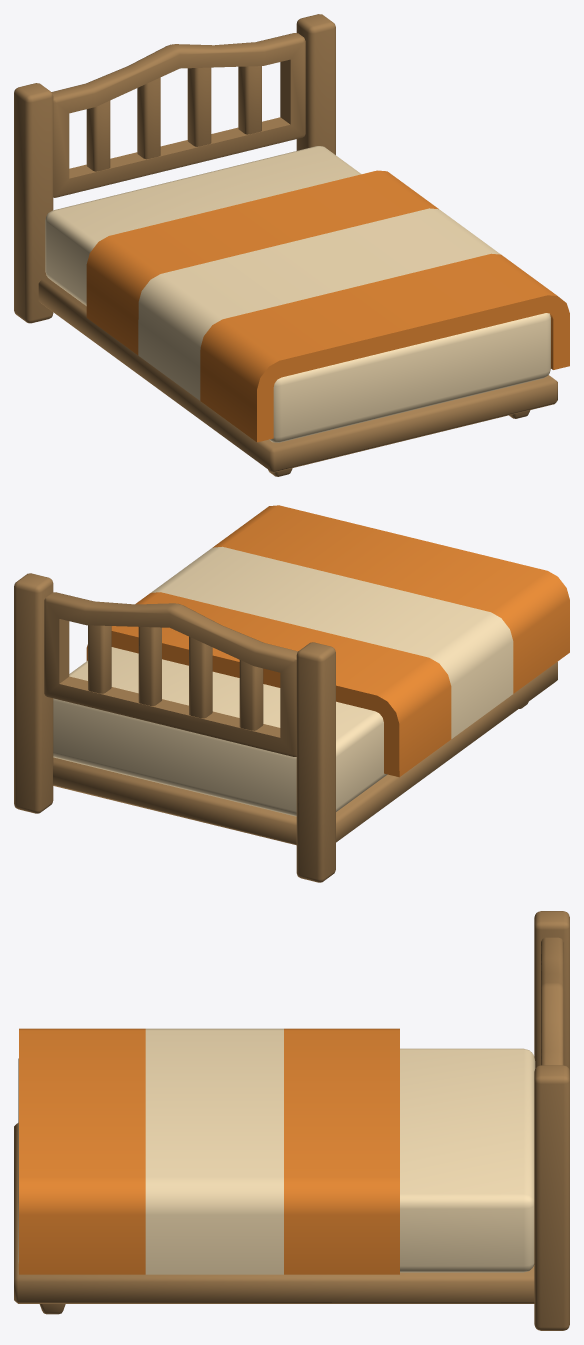
Rendered from Double Bed_1V.fbx.
3 renders of one model, top to bottom at view 1: azimuth 30°, elevation 25°; view 2: azimuth 150°, elevation 25°; view 3: azimuth 270°, elevation 25°, orthographic. The views are drawn at different scales.
Parts seen in each view (by area): view 1: Double Bed_1V; view 2: Double Bed_1V; view 3: Double Bed_1V.
Boxes of the visible parts, x1,y1,x2,y2 form: Double Bed_1V: (14,14,569,476); Double Bed_1V: (14,505,569,882); Double Bed_1V: (14,911,569,1330).
Bounding box in the file's own units: 1.27 × 0.9156 × 1.75.
